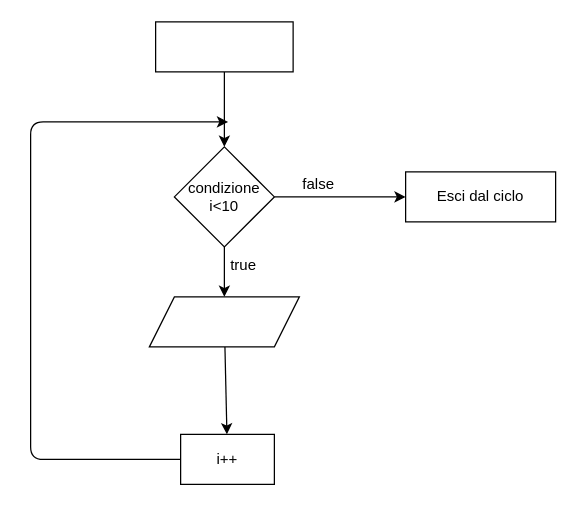
This 578x506 diagram has some shape labels left out. Here are the shapes that lost their labels. From the top down, the box of each, then its label:
(154, 21, 293, 72): i = 0
(148, 296, 299, 347): Azione
